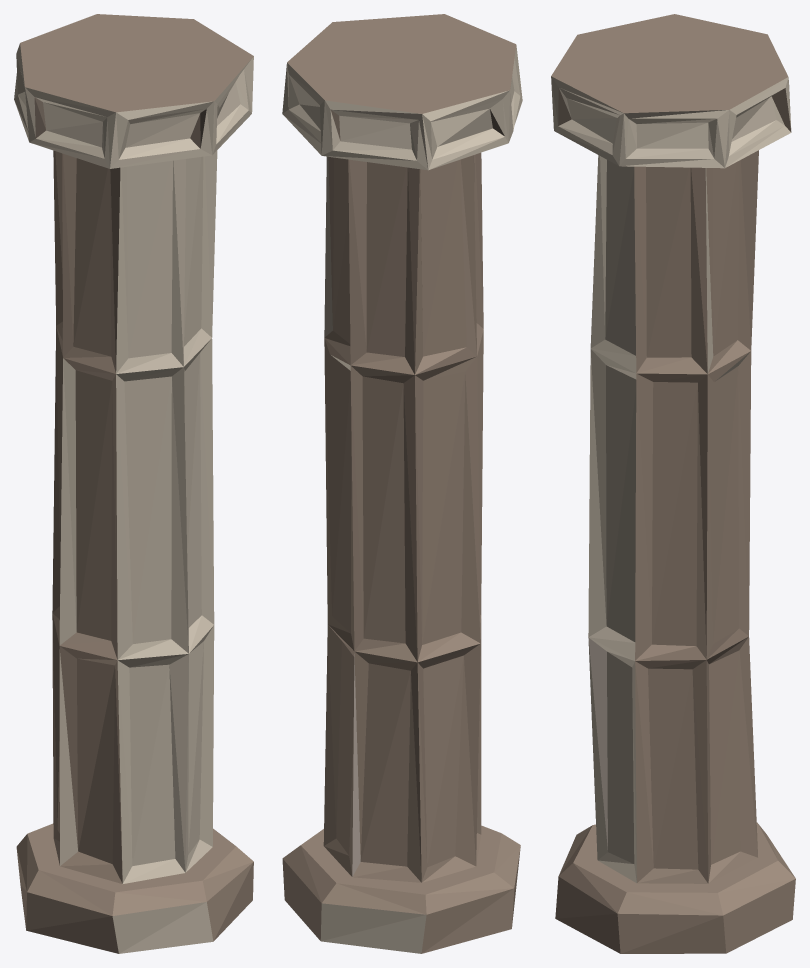
File: RG-Dungeon_Column-02.fbx
The picture shows the model from 3 angles, left to right: view 1: azimuth 30°, elevation 25°; view 2: azimuth 150°, elevation 25°; view 3: azimuth 270°, elevation 25°; orthographic projection.
Visible parts, largest first — view 1: RG-Dungeon_Column-02; view 2: RG-Dungeon_Column-02; view 3: RG-Dungeon_Column-02.
Boxes of the visible parts, <box> form: RG-Dungeon_Column-02: <box>14,14,253,953</box>; RG-Dungeon_Column-02: <box>282,14,522,953</box>; RG-Dungeon_Column-02: <box>551,14,795,953</box>.
Bounding box in the file's own units: 4.08 × 16 × 4.22.
